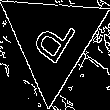P_SW: (26, 8, 80, 71)
